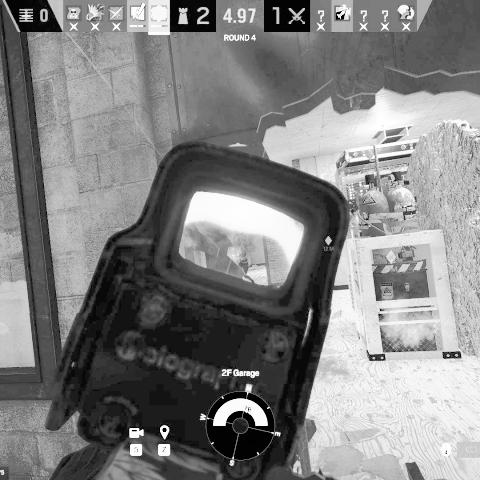Character: (230, 244, 256, 284)
